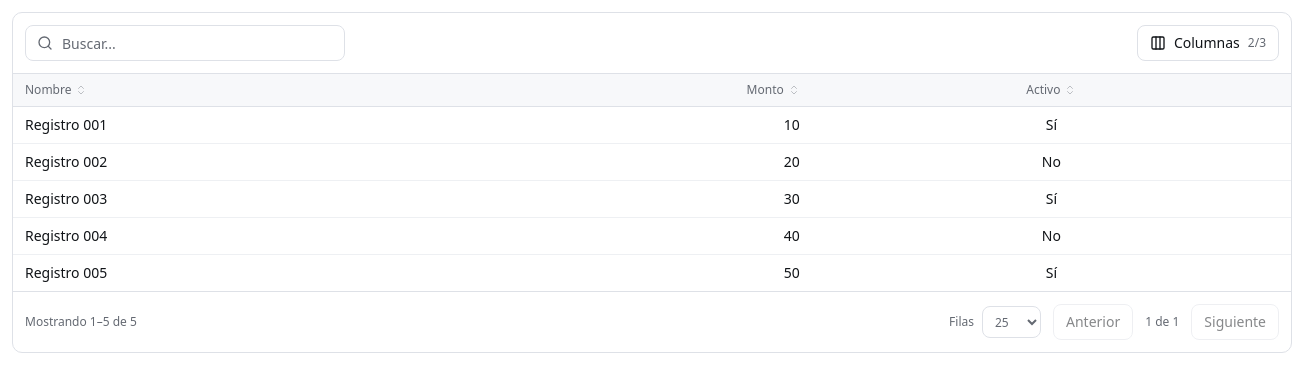
it: AdvancedTable › configuración de columnas › sin la capacidad conserva el desplegable del BaseTable
Click the button with aria-label "Columnas," at (1208, 43), box x1=1137 y1=25 x2=1279 y2=61
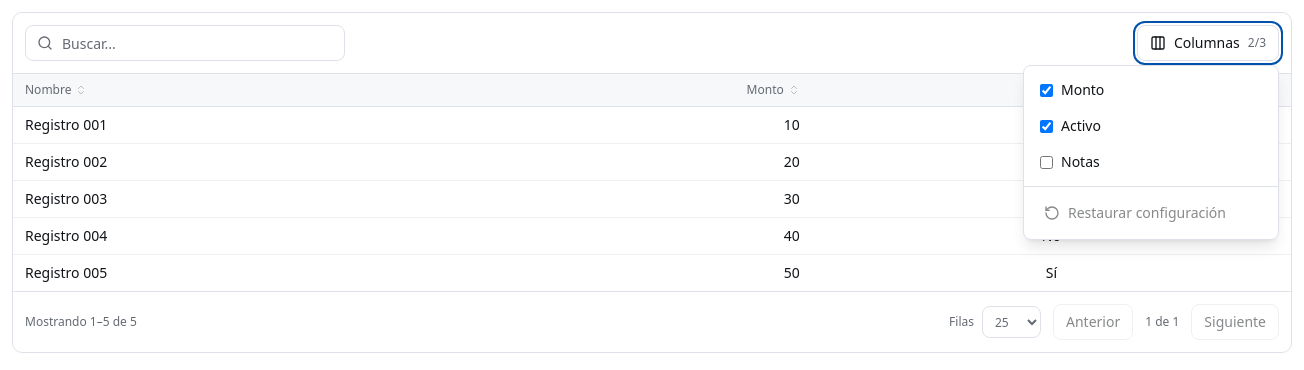
Check: the element named "Columnas visibles" is shown, box x1=1023 y1=65 x2=1279 y2=240
